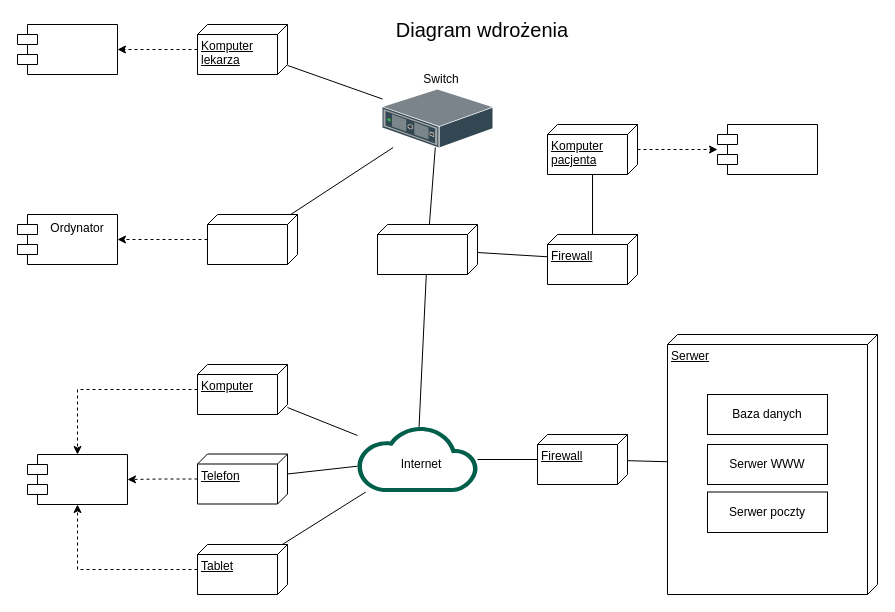
Some shapes in this 895 by 612 pixel diagram are drawn without their labels. Each missing label, with the box of its shape:
Komputer ordynatora: (206, 214, 298, 264)
Lekarz: (16, 24, 118, 74)
Pacjent: (716, 124, 818, 174)
Serwer w szpitalu: (376, 224, 478, 274)
Użytkownik: (26, 454, 128, 504)
